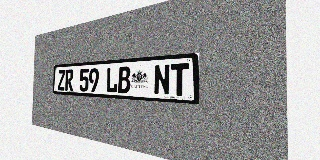5: (79, 68, 89, 92)
9: (89, 68, 99, 92)
B: (118, 66, 131, 94)
L: (106, 67, 118, 93)
N: (154, 64, 170, 96)
R: (65, 69, 73, 91)
T: (170, 63, 189, 96)
Z: (58, 70, 65, 91)
